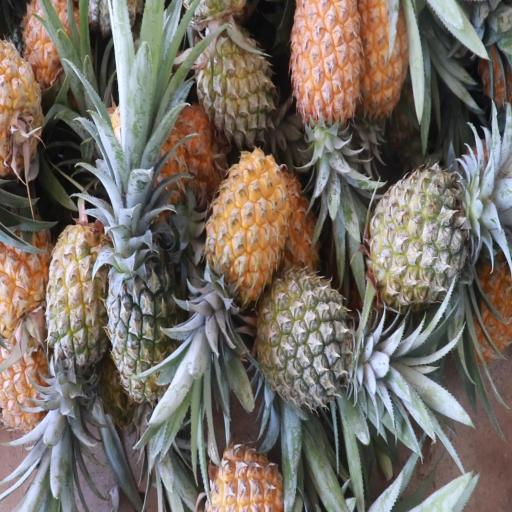------------------------------: (43, 223, 107, 395)
Pineapple - v8 v1: (290, 1, 360, 235), (216, 155, 287, 384), (0, 221, 63, 345), (363, 0, 411, 147), (0, 45, 47, 179), (0, 347, 66, 433), (28, 0, 88, 94)
